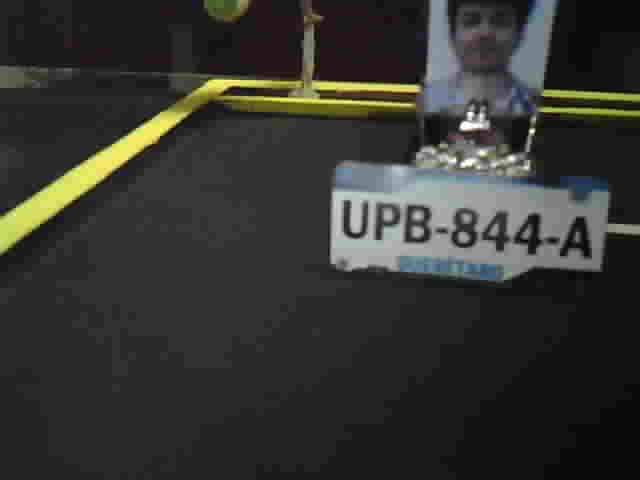PLACA: (327, 157, 613, 292)
ROSTRO: (431, 1, 541, 112)
